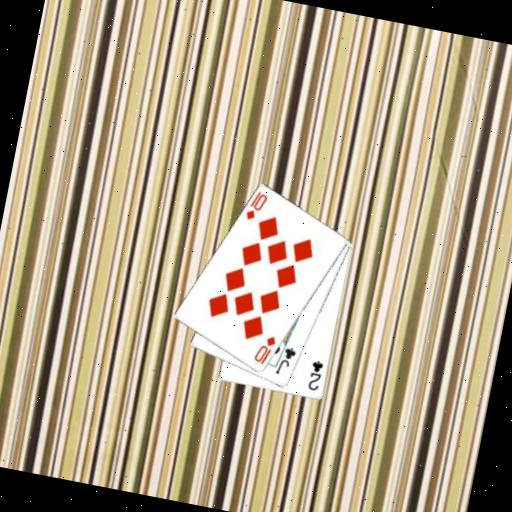10D: (241, 186, 270, 225), (250, 331, 279, 369)
2C: (305, 357, 326, 393)
JC: (272, 343, 298, 379)
